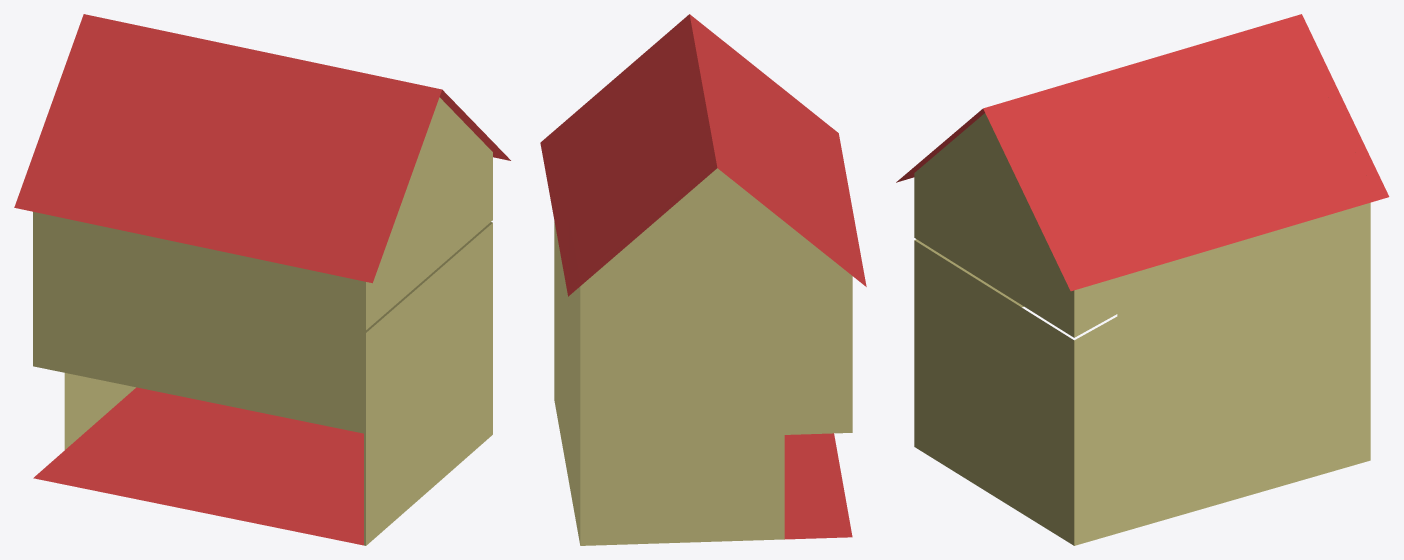
3 views of the same model, side by side, from view 1: azimuth 30°, elevation 25°; view 2: azimuth 150°, elevation 25°; view 3: azimuth 270°, elevation 25° (orthographic). The views are drawn at different scales.
Bounding box in the file's own units: 17.38 × 18.1 × 15.92.
